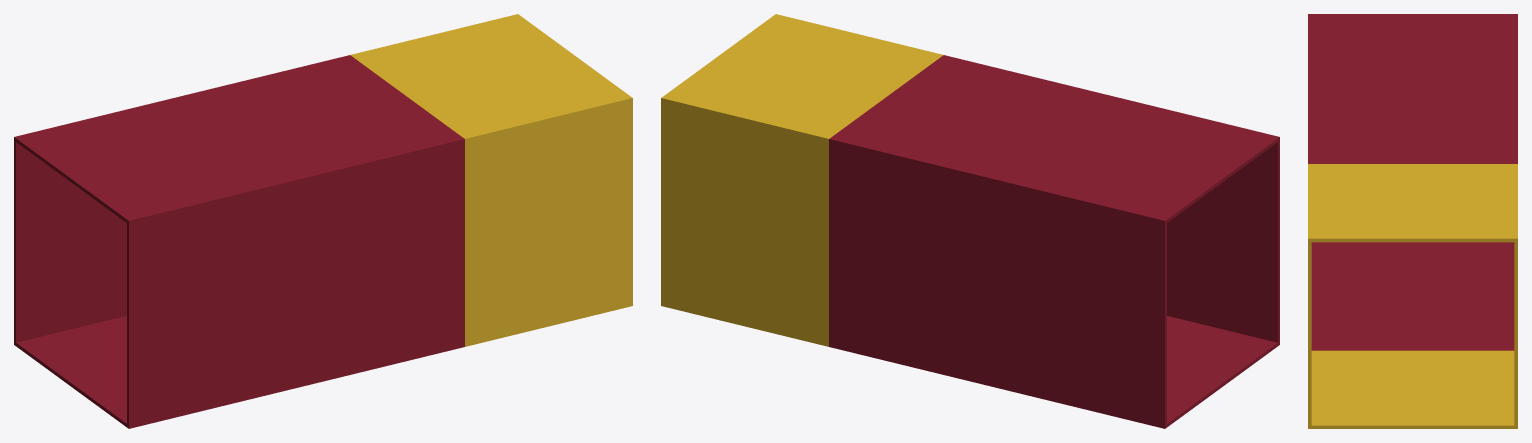
Rendered from thermal_oxidizer_temperature.glb.
3 renders of one model, left to right at view 1: azimuth 30°, elevation 25°; view 2: azimuth 150°, elevation 25°; view 3: azimuth 270°, elevation 25°, orthographic. The views are drawn at different scales.
Visible parts, largest first — view 1: temperature__front, temperature__back; view 2: temperature__back, temperature__front; view 3: temperature__back, temperature__front.
Part boxes in pixels (x1,y1,x2,y2): temperature__front: (71, 56, 632, 428); temperature__back: (14, 14, 574, 386); temperature__back: (661, 56, 1222, 428); temperature__front: (719, 14, 1279, 386); temperature__back: (1413, 14, 1517, 428); temperature__front: (1308, 14, 1412, 428).
Size of the model in its own units: 3.6 by 1.42 by 1.42.
